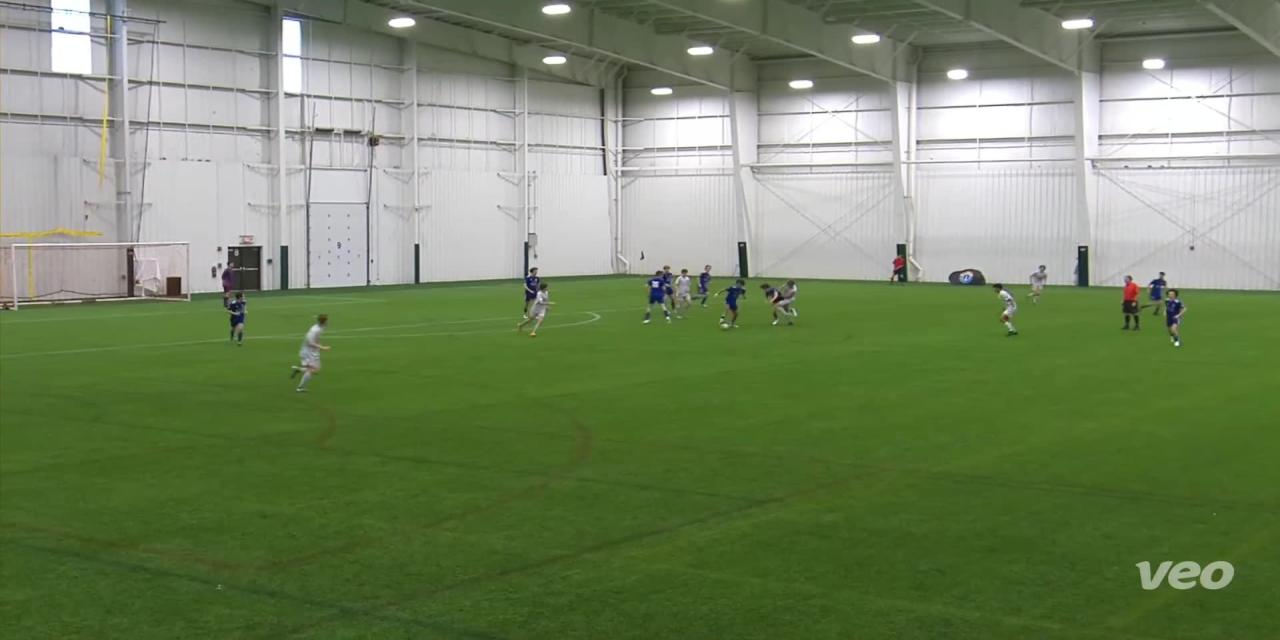goal: (0, 240, 201, 306)
sports ball: (717, 319, 732, 333)
